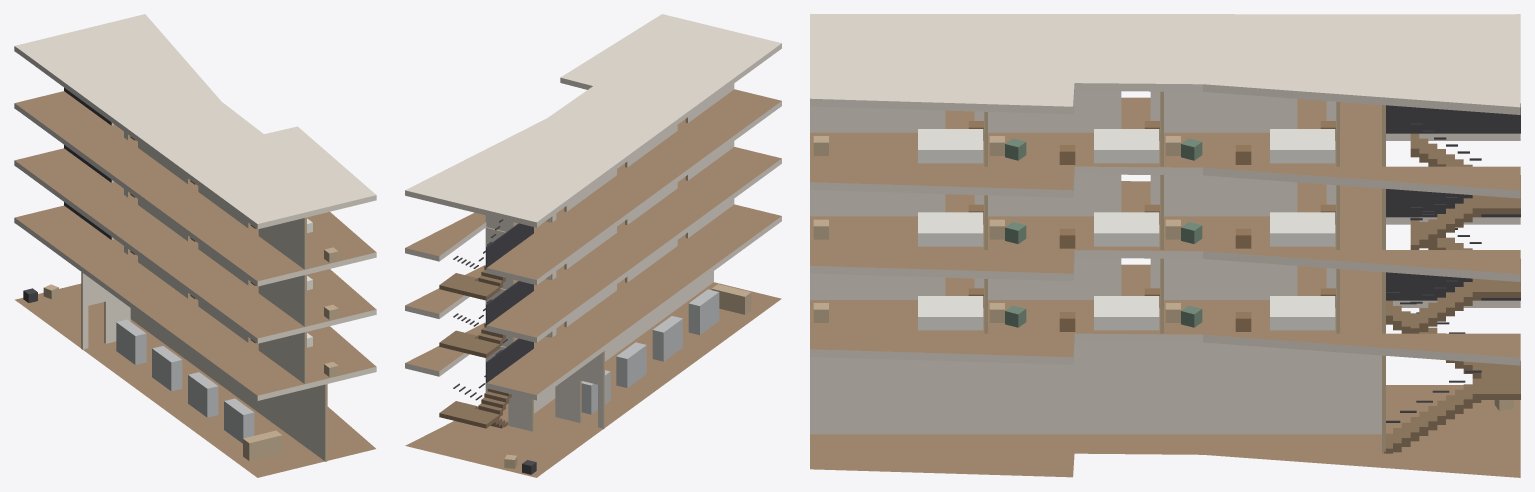
Rendered from interior.glb.
3 views of the same model, side by side, from view 1: azimuth 30°, elevation 25°; view 2: azimuth 150°, elevation 25°; view 3: azimuth 270°, elevation 25° (orthographic). The views are drawn at different scales.
Parts seen in each view (by area): view 1: slabs, partitions, coarse-s0, stair; view 2: slabs, partitions, stair, coarse-s0; view 3: slabs, partitions, stair, coarse-s2, coarse-s3, coarse-s1.
Part boxes in pixels (x1=…): slabs: x1=14, y1=14, x2=376, y2=477; partitions: x1=81, y1=122, x2=327, y2=461; coarse-s0: x1=23, y1=284, x2=282, y2=460; stair: x1=64, y1=87, x2=111, y2=239; slabs: x1=405, y1=14, x2=781, y2=477; partitions: x1=485, y1=83, x2=734, y2=431; stair: x1=439, y1=219, x2=533, y2=428; coarse-s0: x1=504, y1=284, x2=751, y2=474; slabs: x1=810, y1=14, x2=1520, y2=477; partitions: x1=810, y1=91, x2=1385, y2=453; stair: x1=1384, y1=103, x2=1520, y2=453; coarse-s2: x1=813, y1=204, x2=1335, y2=248; coarse-s3: x1=813, y1=121, x2=1335, y2=164; coarse-s1: x1=813, y1=288, x2=1335, y2=331.
Bounding box in the file's own units: 6.74 × 12.49 × 21.67.
